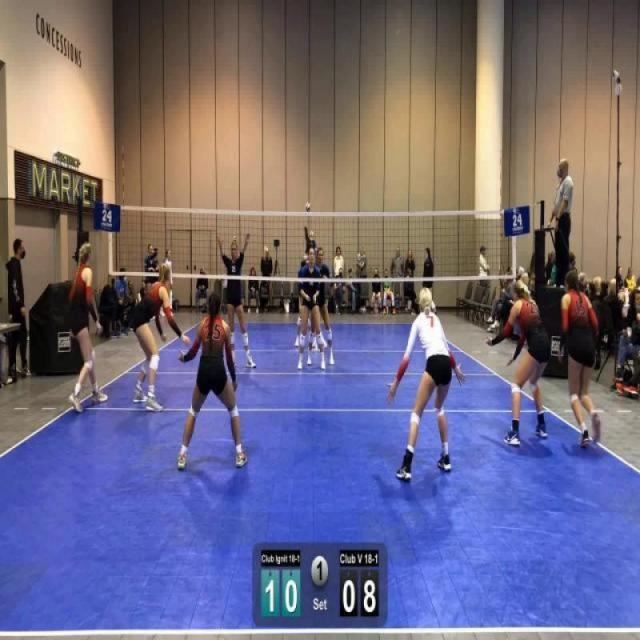volleyball: (304, 201, 312, 212)
